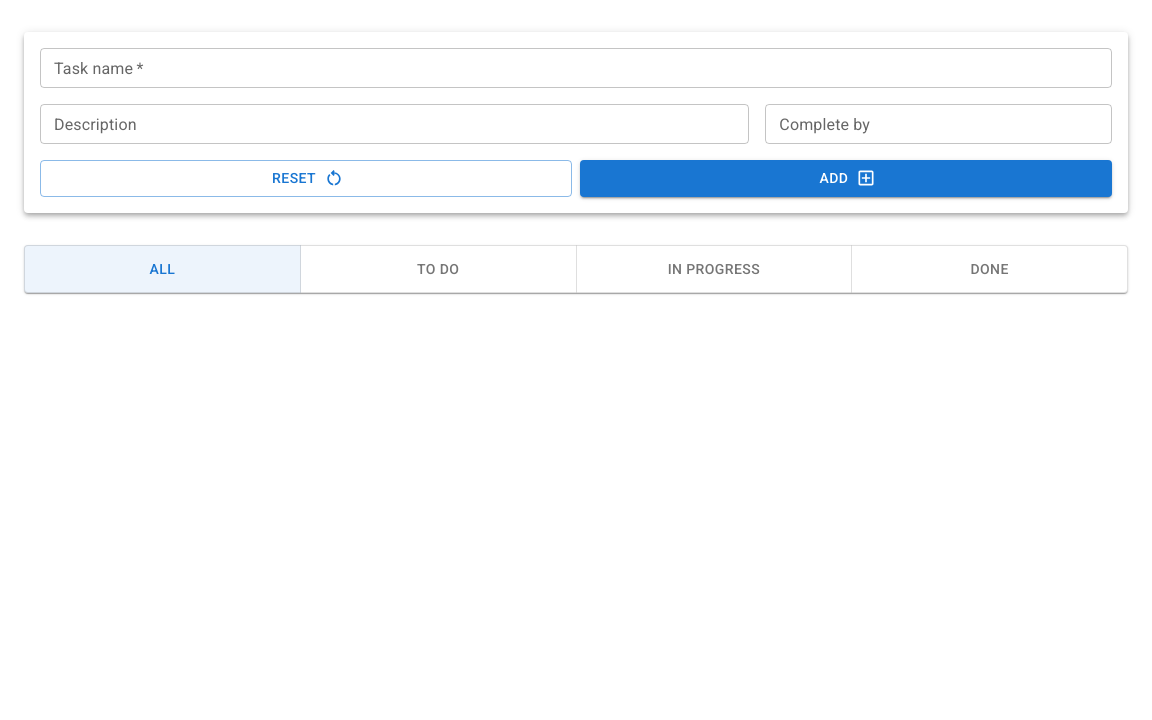
Scenario: Tasks page testing › adds task with title
The image size is (1152, 720).
Type "test task1" into the field labelled "Task name *" at x=576, y=68, box left=40, top=48, right=1112, bottom=88
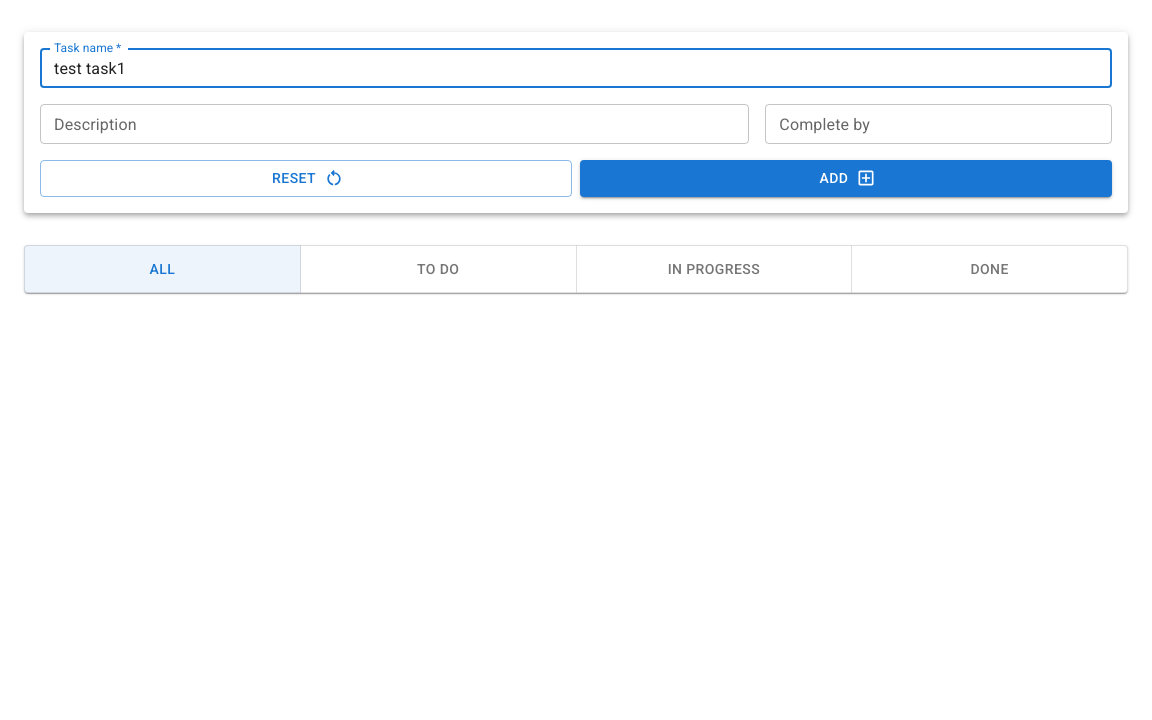
Click the button "Add" at x=846, y=178, box left=580, top=160, right=1112, bottom=196
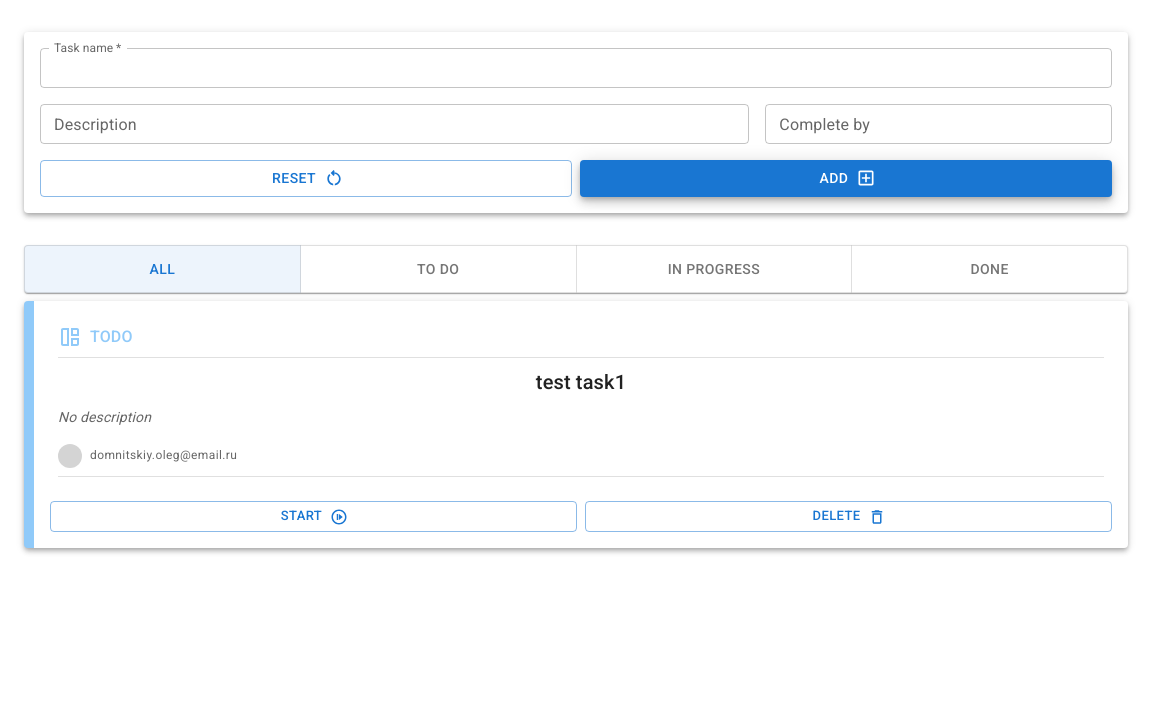
Check: the text "test task1" is shown, box left=536, top=370, right=626, bottom=394
